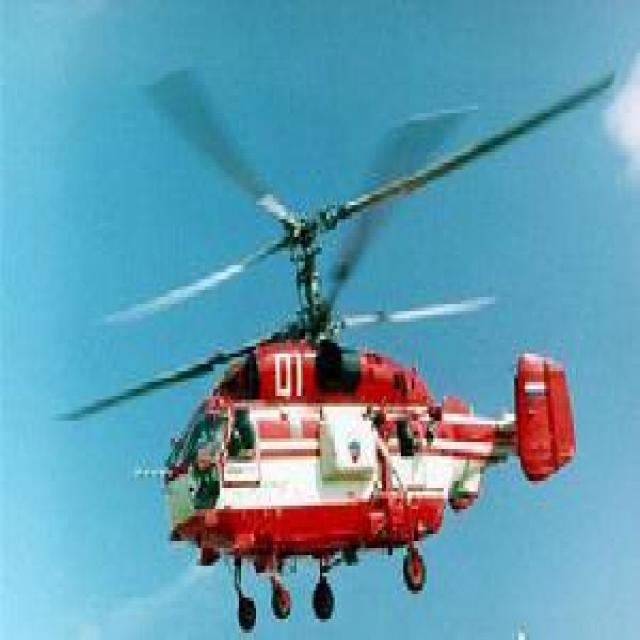MIL_HELO: (49, 47, 640, 636)
